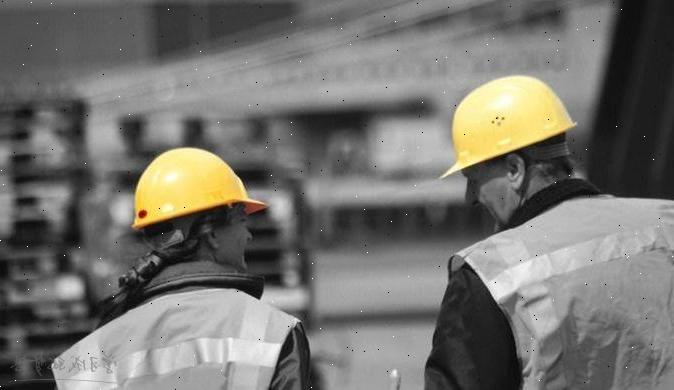helmet: (434, 74, 582, 180), (126, 144, 268, 229)
